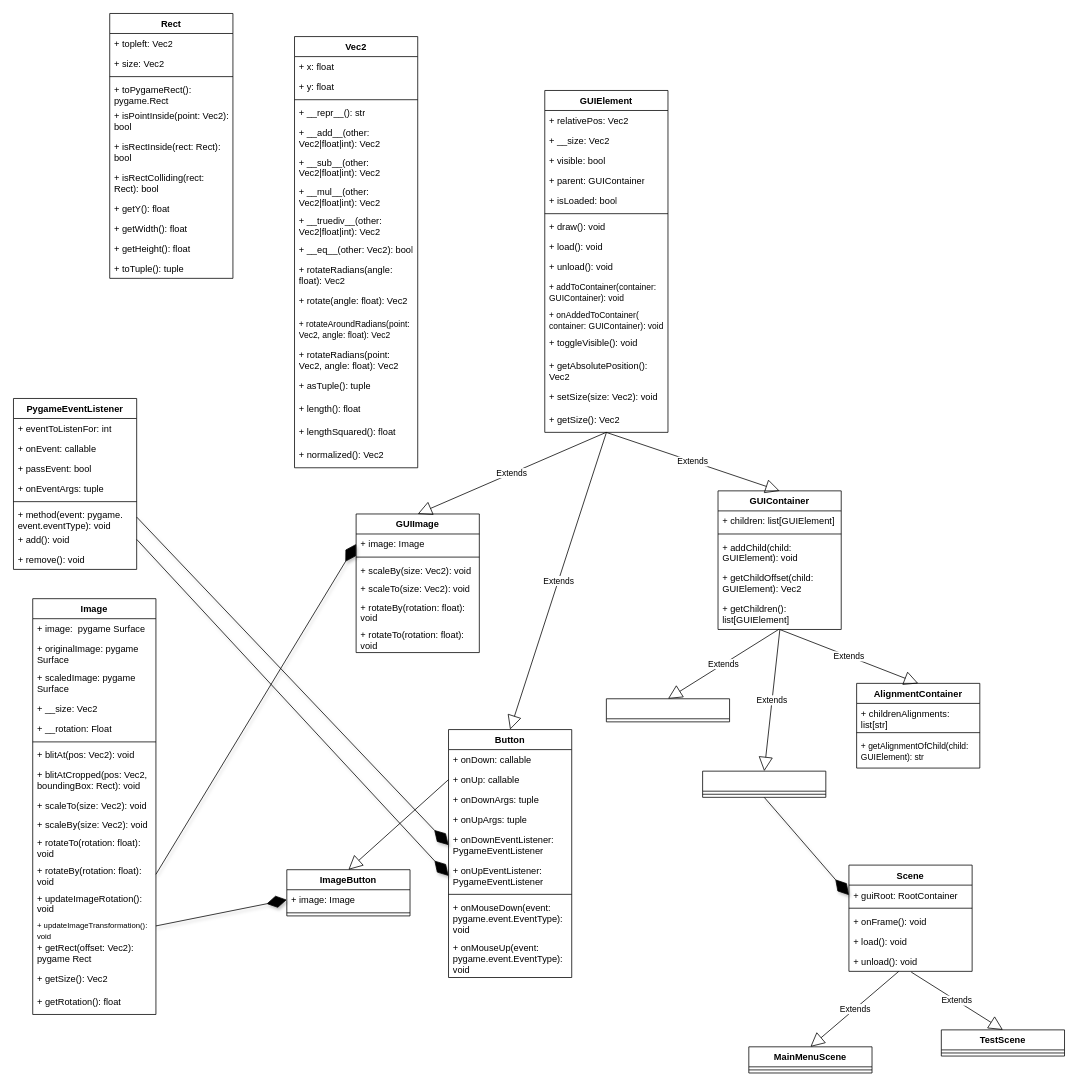
The diagram is 1078 pixels wide and 1086 high, and some of its shapes have lost their labels. Here are the shapes that lost their labels. From the top down, the centre of each, then its label:
At point (668, 710): "LayeredGUIContainer".
At point (764, 783): "RootContainer".
